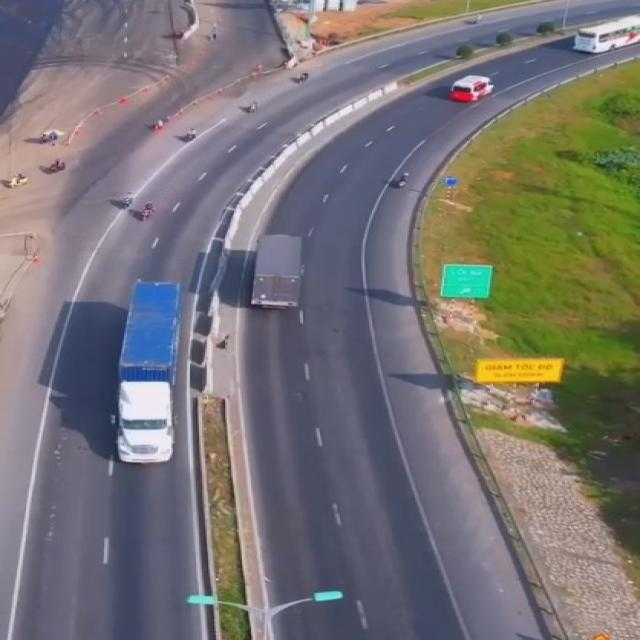bus: (569, 15, 640, 53), (444, 72, 490, 102)
truck: (118, 284, 182, 462), (251, 234, 311, 314)
